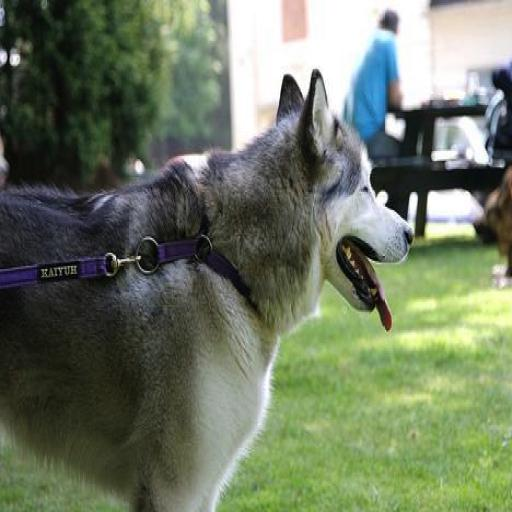dog_face: (269, 66, 426, 339)
